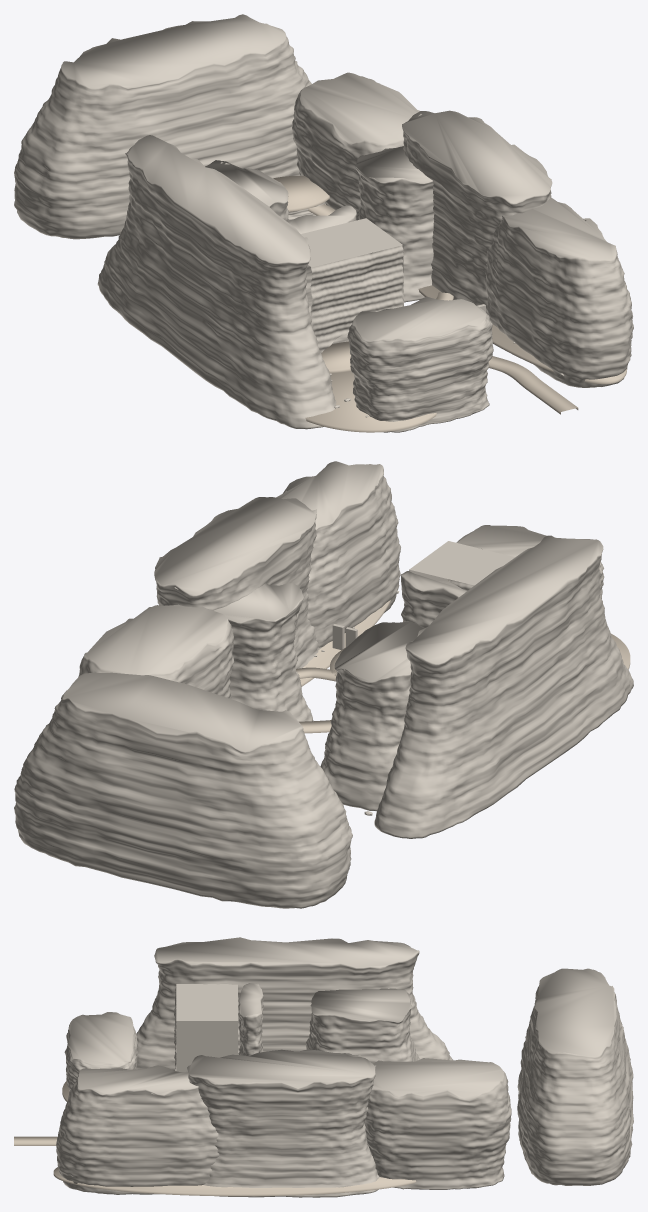
File: canyon-world.glb
The picture shows the model from 3 angles, top to bottom: view 1: azimuth 30°, elevation 25°; view 2: azimuth 150°, elevation 25°; view 3: azimuth 270°, elevation 25°; orthographic projection. The views are drawn at different scales.
Visible parts, largest first — view 1: West canyon wall.004, Distant termination.004, East foreground.004, East canyon wall.004, Entry left shoulder.003, East upper gallery.004, East elbow.002, Cave front layered facade.004, Cave crown.003, West bank.004, West bend buttress.004, Main winding walkway.004 (+4 smaller); view 2: Distant termination.004, West canyon wall.004, East foreground.004, East canyon wall.004, West bend buttress.004, East upper gallery.004, East elbow.002, Cave crown.003, Cave back wall.004, Entry left shoulder.003, East bank.004; view 3: East canyon wall.004, Distant termination.004, West canyon wall.004, East foreground.004, East upper gallery.004, West bend buttress.004, Entry left shoulder.003, East bank.004, Cave right cheek.003, Cave crown.003, Cave back wall.004, Main winding walkway.004.
Part boxes in pixels (x1,y1,x2,y2): West canyon wall.004: [97, 135, 336, 429]; Distant termination.004: [14, 14, 311, 239]; East foreground.004: [484, 197, 633, 387]; East canyon wall.004: [402, 110, 552, 322]; Entry left shoulder.003: [347, 296, 493, 432]; East upper gallery.004: [292, 72, 419, 220]; East elbow.002: [355, 146, 434, 302]; Cave front layered facade.004: [310, 245, 404, 353]; Cave crown.003: [300, 218, 402, 267]; West bank.004: [305, 371, 436, 432]; West bend buttress.004: [205, 160, 288, 220]; Main winding walkway.004: [308, 204, 578, 414]; Distant termination.004: [14, 672, 352, 908]; West canyon wall.004: [374, 535, 633, 838]; East foreground.004: [276, 461, 400, 647]; East canyon wall.004: [154, 497, 321, 668]; West bend buttress.004: [320, 621, 424, 811]; East upper gallery.004: [78, 604, 234, 698]; East elbow.002: [213, 583, 313, 721]; Cave crown.003: [409, 541, 515, 585]; Cave back wall.004: [401, 571, 466, 628]; Entry left shoulder.003: [456, 525, 604, 598]; East bank.004: [300, 600, 390, 686]; East canyon wall.004: [187, 1049, 379, 1197]; Distant termination.004: [517, 968, 633, 1185]; West canyon wall.004: [136, 937, 452, 1070]; East foreground.004: [56, 1065, 219, 1194]; East upper gallery.004: [364, 1058, 511, 1189]; West bend buttress.004: [306, 988, 419, 1063]; Entry left shoulder.003: [64, 1012, 137, 1093]; East bank.004: [53, 1167, 415, 1196]; Cave right cheek.003: [176, 1021, 237, 1071]; Cave crown.003: [176, 984, 237, 1020]; Cave back wall.004: [238, 983, 263, 1055]; Main winding walkway.004: [14, 1136, 57, 1145].
Bounding box in the file's own units: 76.94 × 32.45 × 141.
